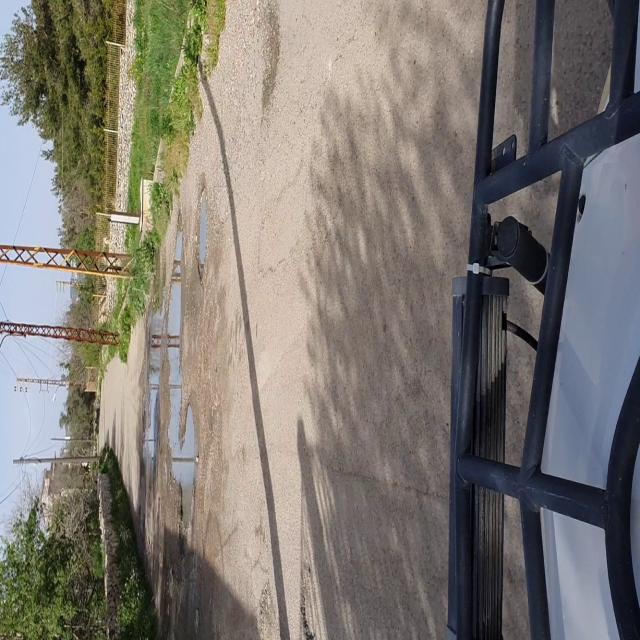Pothole: (164, 213, 183, 392), (180, 401, 200, 533), (196, 187, 209, 280)
